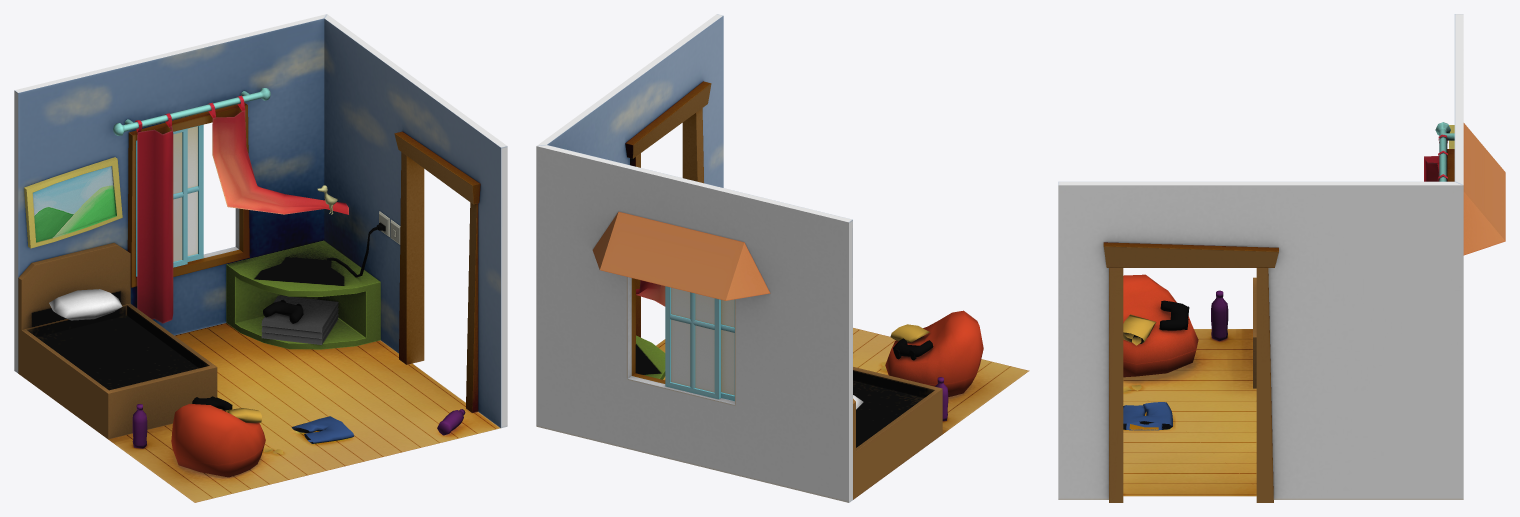
The model's file is bedroom 1.fbx.
The picture shows the model from 3 angles, left to right: view 1: azimuth 30°, elevation 25°; view 2: azimuth 150°, elevation 25°; view 3: azimuth 270°, elevation 25°; orthographic projection. The views are drawn at different scales.
Visible parts, largest first — view 1: room, bedframe, bedroom_curtains, tv_shelf, doorframe, photo, beanbag, window_frame, box, pillow, polySurface23, polySurface25 (+6 smaller); view 2: room, window_roof, bedframe, beanbag, doorframe, polySurface23, polySurface24, polySurface25, tv_shelf, window_frame; view 3: room, doorframe, beanbag, window_roof, pants, bottle, pCube34, chip_packet, curtain_pole, bedroom_curtains.
Boxes of the visible parts, x1,y1,x2,y2 form: room: (14, 14, 507, 502); bedframe: (18, 243, 217, 439); bedroom_curtains: (135, 95, 348, 323); tv_shelf: (226, 240, 380, 349); doorframe: (394, 131, 480, 412); photo: (24, 157, 122, 248); beanbag: (171, 404, 265, 477); window_frame: (127, 102, 249, 287); box: (261, 295, 338, 344); pillow: (49, 289, 122, 320); polySurface23: (187, 126, 197, 256); polySurface25: (173, 132, 182, 261); room: (536, 14, 1029, 502); window_roof: (592, 211, 770, 300); bedframe: (853, 367, 942, 499); beanbag: (885, 310, 983, 396); doorframe: (625, 81, 711, 337); polySurface23: (671, 287, 714, 392); polySurface24: (665, 286, 720, 399); polySurface25: (721, 299, 734, 395); tv_shelf: (635, 335, 665, 379); window_frame: (631, 278, 665, 383); room: (1058, 14, 1463, 499); doorframe: (1103, 242, 1278, 502); beanbag: (1123, 274, 1198, 377); window_roof: (1463, 123, 1505, 255); pants: (1123, 402, 1172, 430); bottle: (1211, 290, 1228, 341); pCube34: (1159, 300, 1189, 330); chip_packet: (1123, 314, 1156, 343); curtain_pole: (1439, 128, 1454, 181); bedroom_curtains: (1424, 134, 1447, 181).
Size of the model in its own units: 143 by 120 by 155.
